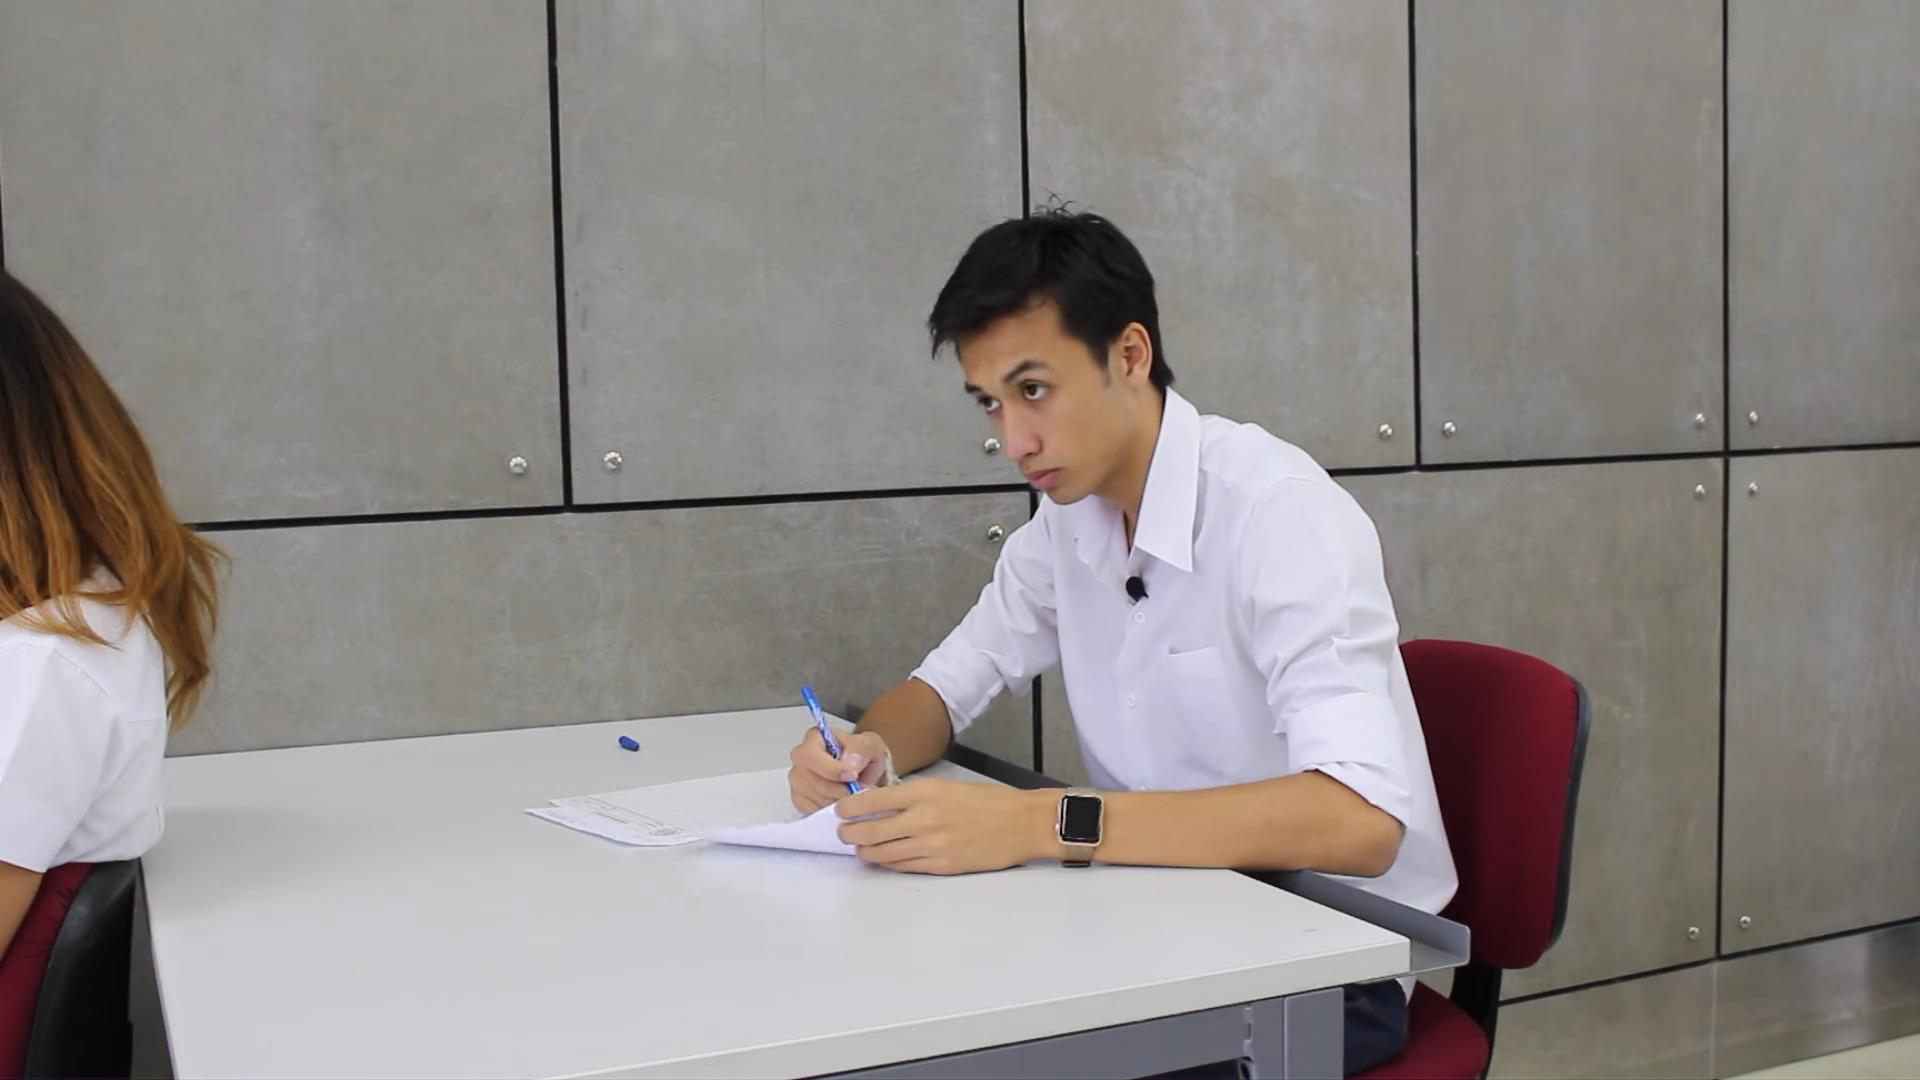good: (502, 181, 1503, 935)
